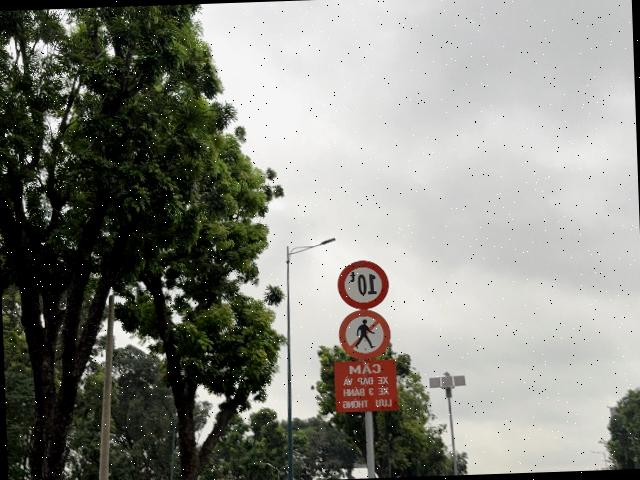cam-nguoi-di-bo: (338, 308, 391, 361)
han-che-trong-luong-xe: (337, 260, 389, 310)
